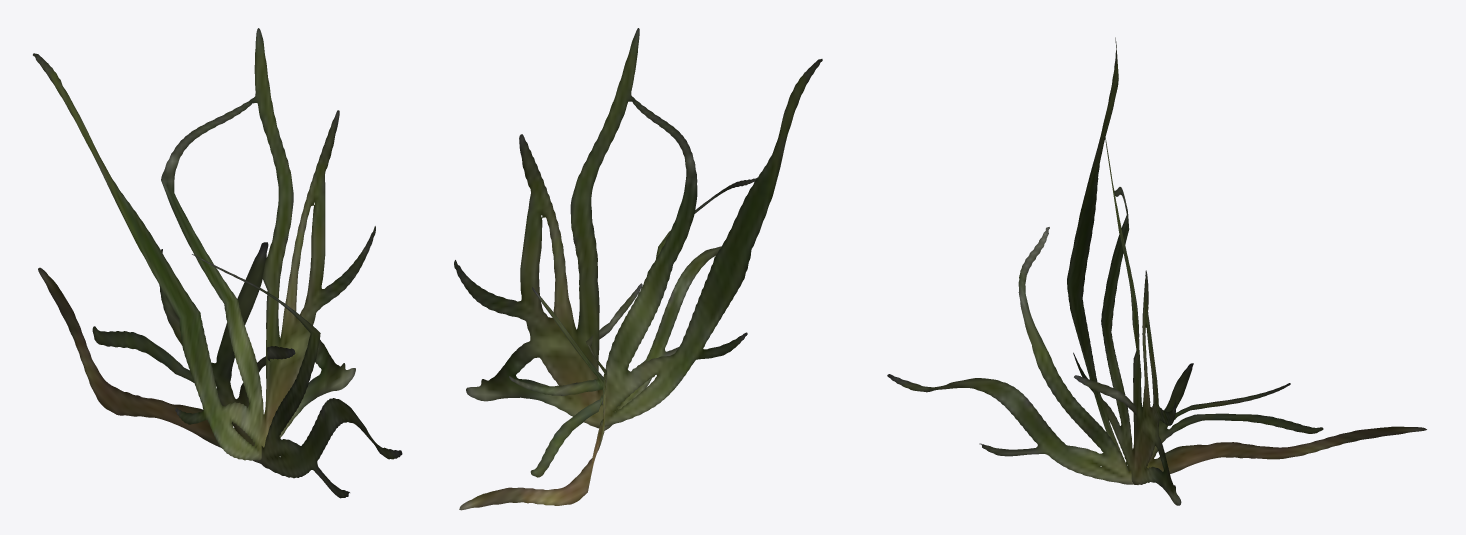
Rendered from grass_bermuda_01_medium_c.gltf.
The picture shows the model from 3 angles, left to right: view 1: azimuth 30°, elevation 25°; view 2: azimuth 150°, elevation 25°; view 3: azimuth 270°, elevation 25°; orthographic projection. The views are drawn at different scales.
Parts seen in each view (by area): view 1: grass_bermuda_01_medium_c; view 2: grass_bermuda_01_medium_c; view 3: grass_bermuda_01_medium_c.
Boxes of the visible parts, <box> form: grass_bermuda_01_medium_c: <box>33,28,402,498</box>; grass_bermuda_01_medium_c: <box>454,28,822,510</box>; grass_bermuda_01_medium_c: <box>887,37,1426,505</box>.
Size of the model in its own units: 0.057 by 0.0667 by 0.0916.
1 material, 1 textured.
